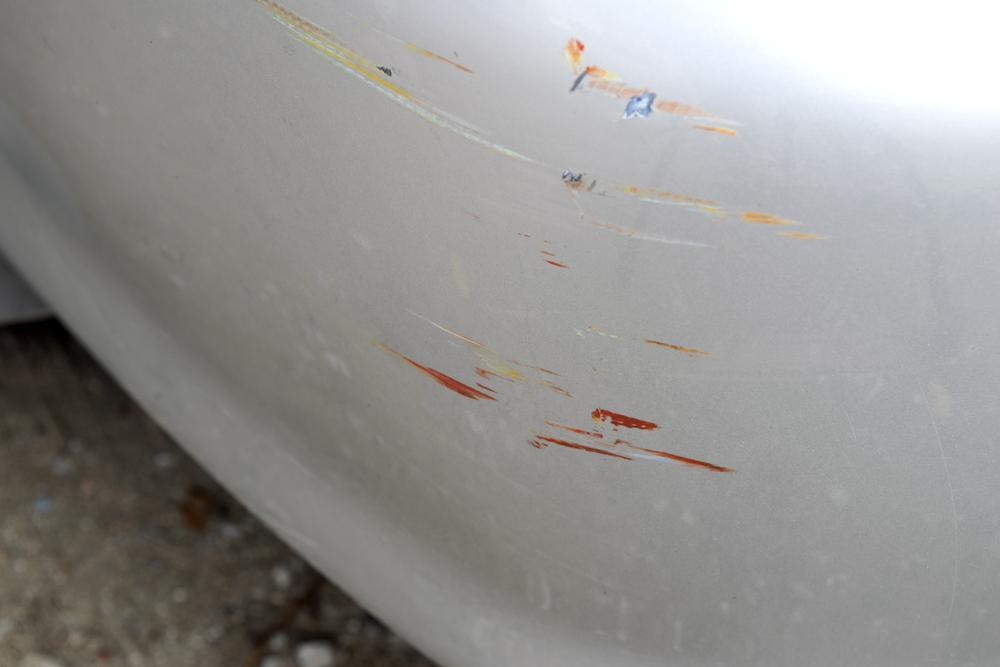scratch: (257, 0, 847, 482)
